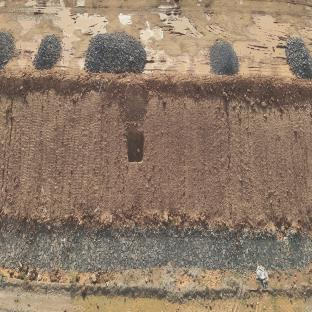rock_toe: (0, 228, 312, 272)
